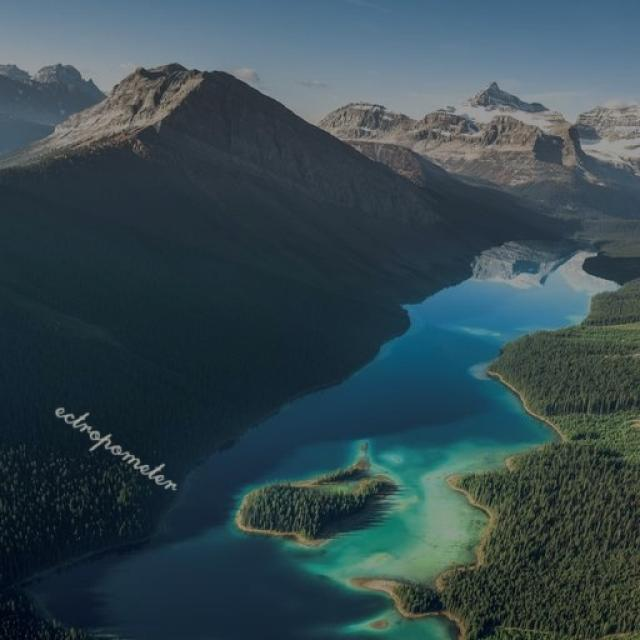watermark: (46, 392, 192, 498)
